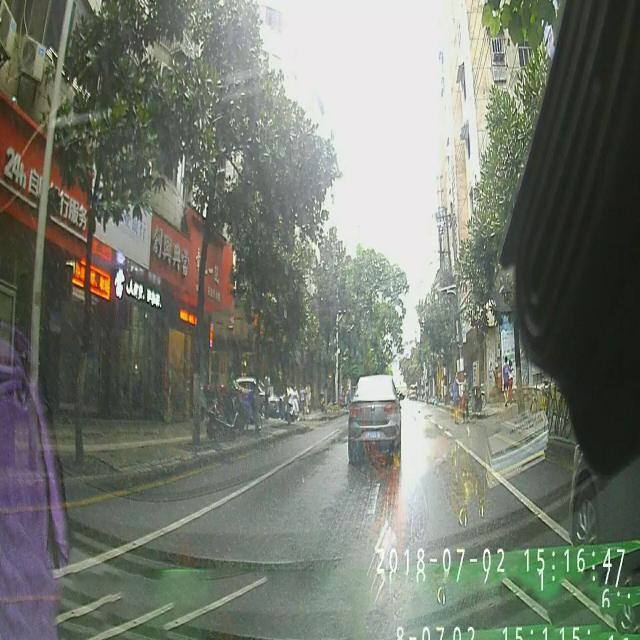car: (348, 374, 404, 464)
